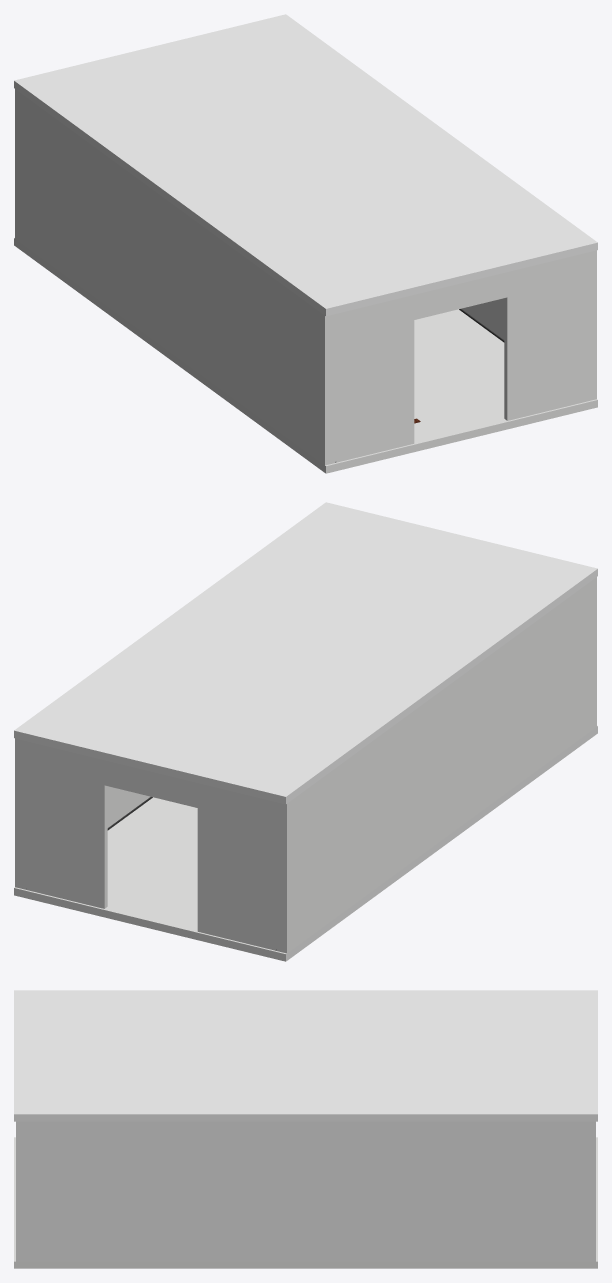
File: room_study_s2.glb
The picture shows the model from 3 angles, top to bottom: view 1: azimuth 30°, elevation 25°; view 2: azimuth 150°, elevation 25°; view 3: azimuth 270°, elevation 25°; orthographic projection. The views are drawn at different scales.
Visible parts, largest first — view 1: room_study_s2_static; view 2: room_study_s2_static; view 3: room_study_s2_static.
Boxes of the visible parts, bbox=[...] form: room_study_s2_static: bbox=[14, 14, 597, 473]; room_study_s2_static: bbox=[14, 502, 597, 961]; room_study_s2_static: bbox=[14, 990, 597, 1268].
Size of the model in its own units: 7.6 by 4.4 by 15.1.
15 materials, 3 textured.
